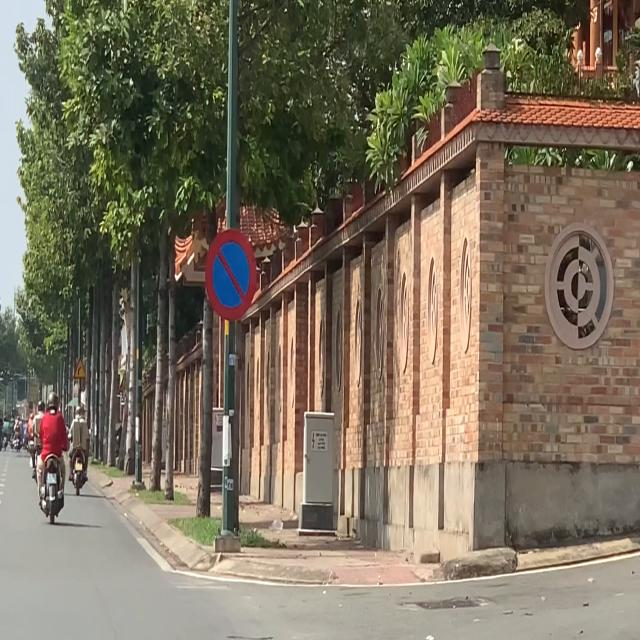Cam do: (205, 228, 258, 323)
Nguy hiem: (73, 356, 86, 379)
